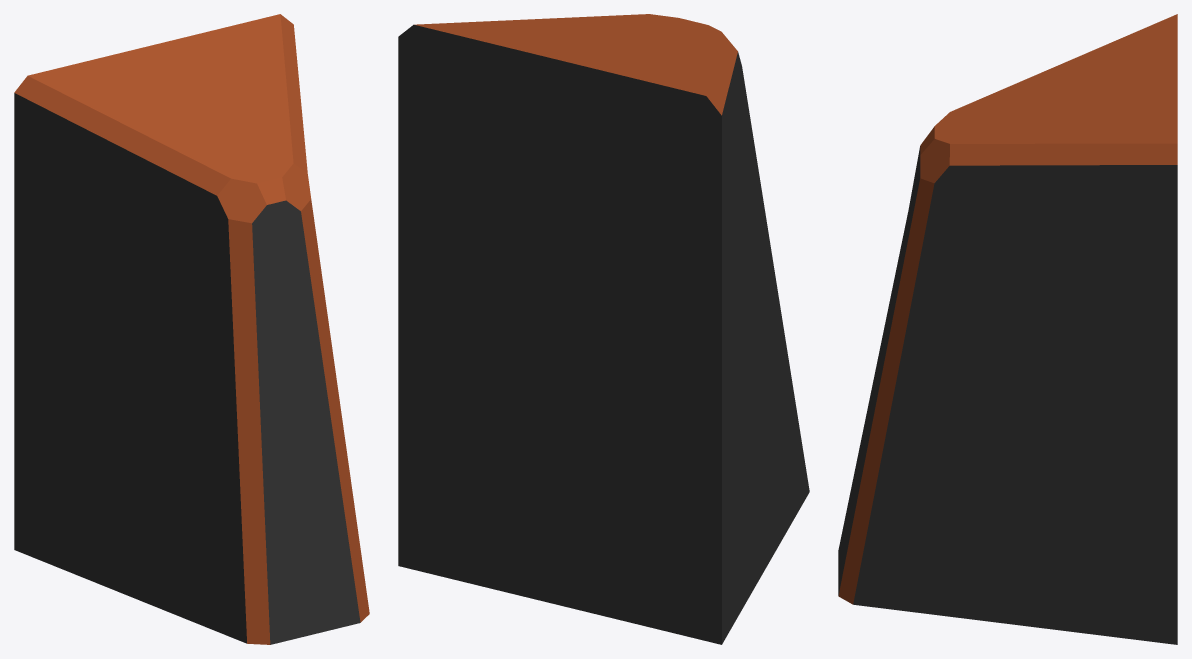
File: GunMount.fbx
3 views of the same model, side by side, from view 1: azimuth 30°, elevation 25°; view 2: azimuth 150°, elevation 25°; view 3: azimuth 270°, elevation 25° (orthographic). The views are drawn at different scales.
Parts seen in each view (by area): view 1: Mount; view 2: Mount; view 3: Mount.
Part boxes in pixels (x1,y1,x2,y2): Mount: (14, 14, 369, 644); Mount: (398, 14, 809, 644); Mount: (838, 14, 1177, 644).
Size of the model in its own units: 121 by 195 by 121.
